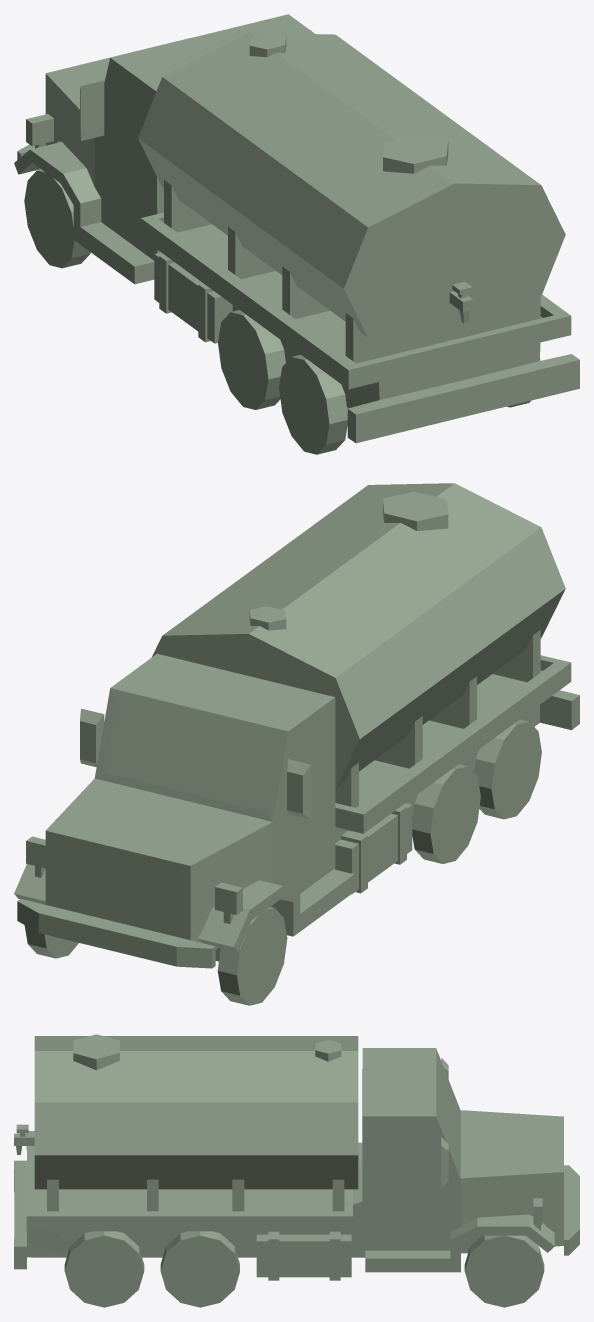
Rendered from truck_fuel.fbx.
3 views of the same model, one above another, from view 1: azimuth 30°, elevation 25°; view 2: azimuth 150°, elevation 25°; view 3: azimuth 270°, elevation 25° (orthographic). The views are drawn at different scales.
Visible parts, largest first — view 1: truck_fuel, wheel_fl; view 2: truck_fuel, wheel_fl, wheel_fr; view 3: truck_fuel, wheel_fr.
Part boxes in pixels (x1,y1,x2,y2): truck_fuel: (14,14,579,454); wheel_fl: (24,169,90,268); truck_fuel: (14,483,579,968); wheel_fl: (217,907,287,1005); wheel_fr: (24,925,78,958); truck_fuel: (14,1034,579,1307); wheel_fr: (464,1235,544,1307).
Size of the model in its own units: 3.99 by 4.64 by 10.81.
